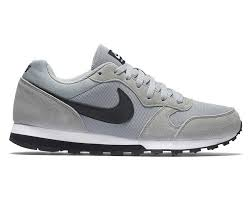nike: (53, 87, 136, 127)
